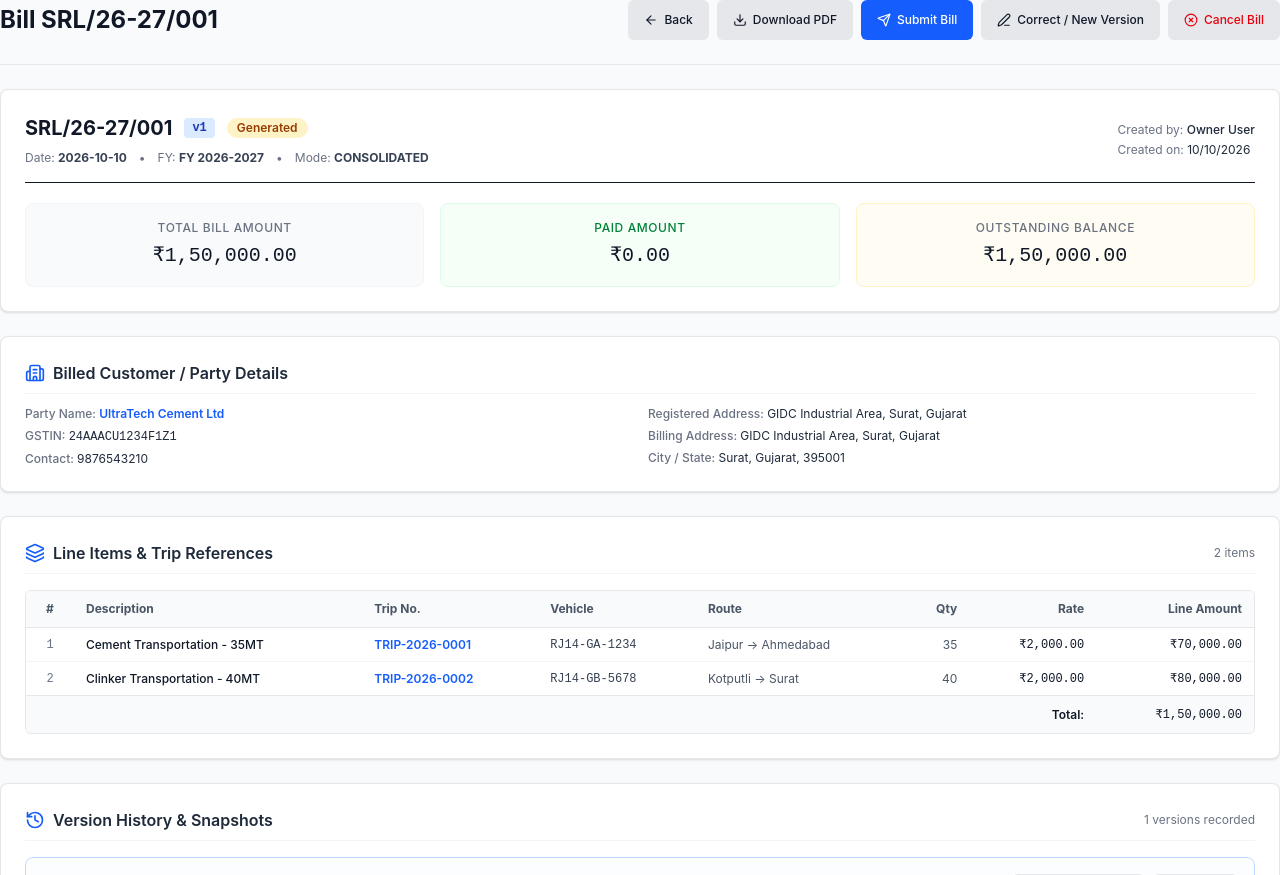
Test: BillDetail Page › rejects cancellation when backend responds with BILL_HAS_ACTIVE_ALLOCATIONS
// Open cancel modal
Click the button "Cancel Bill": (1224, 20) [1168,0,1279,40]
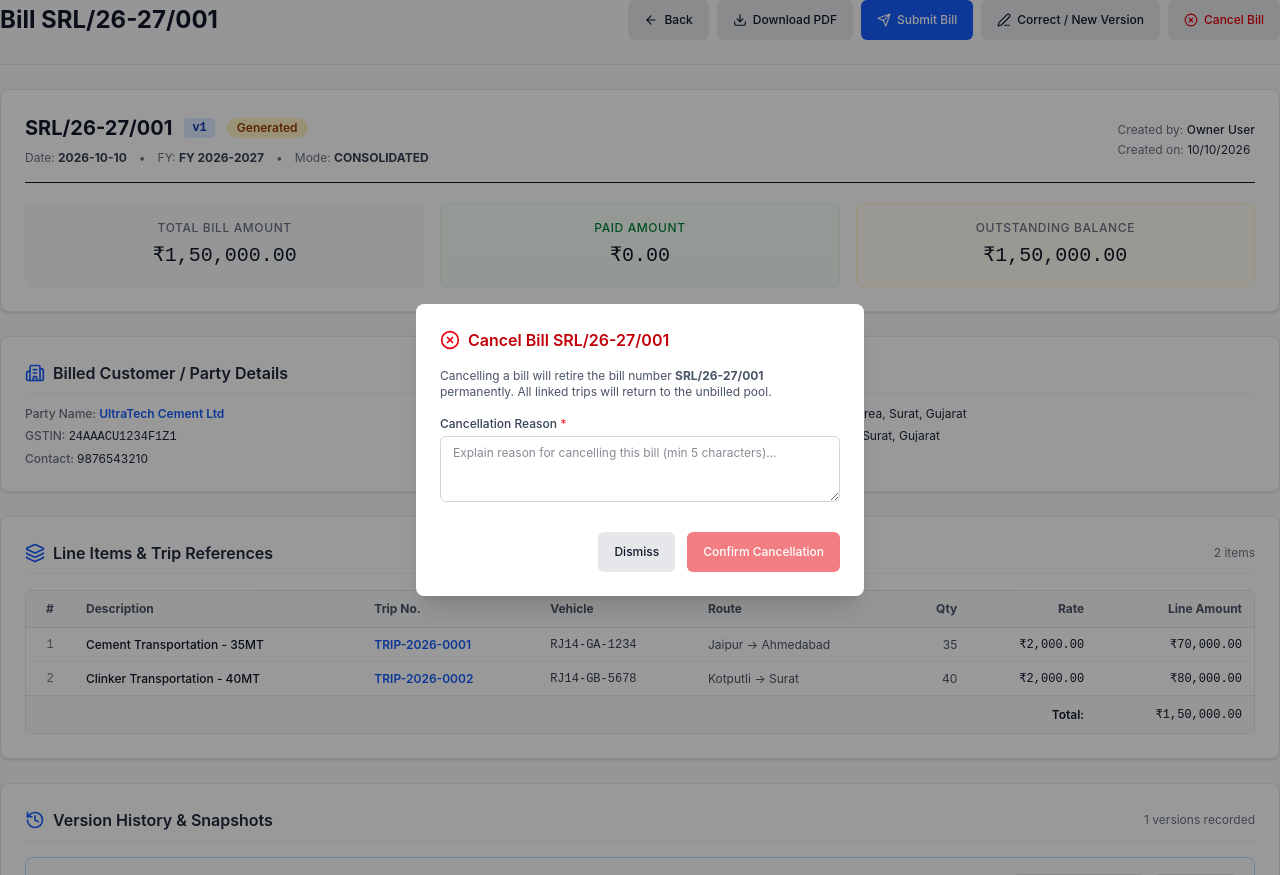
Expected: the text "Cancel Bill SRL/26-27/001" is shown, [468,328,669,352]
// Enter cancellation reason
Replace the text in the text box with placeholder "Explain reason for cancelling this bill (min 5 characters)..." with "Customer requested cancellation.": (640, 469) [440,436,840,502]
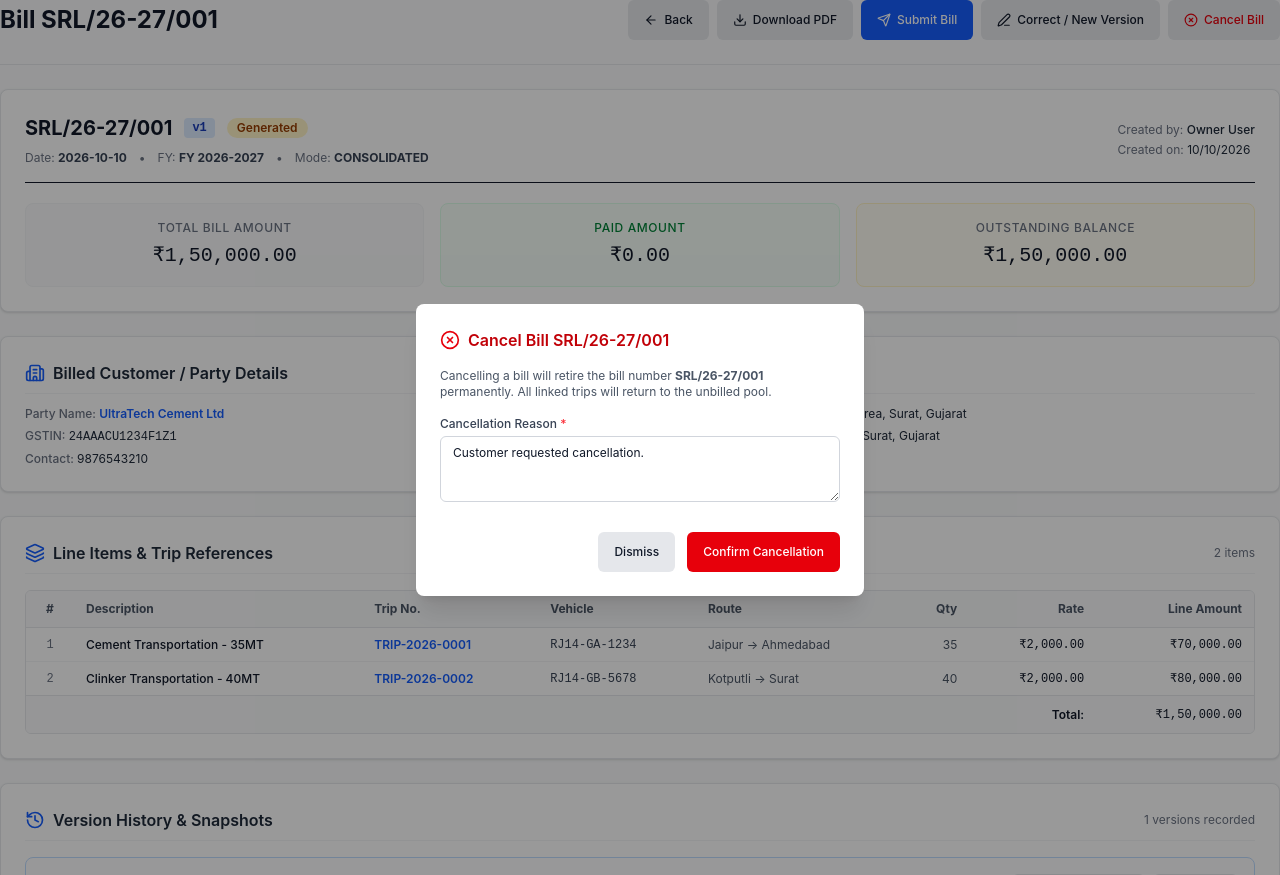
// Confirm cancel
Click the button "Confirm Cancellation": (764, 552) [687,532,840,572]
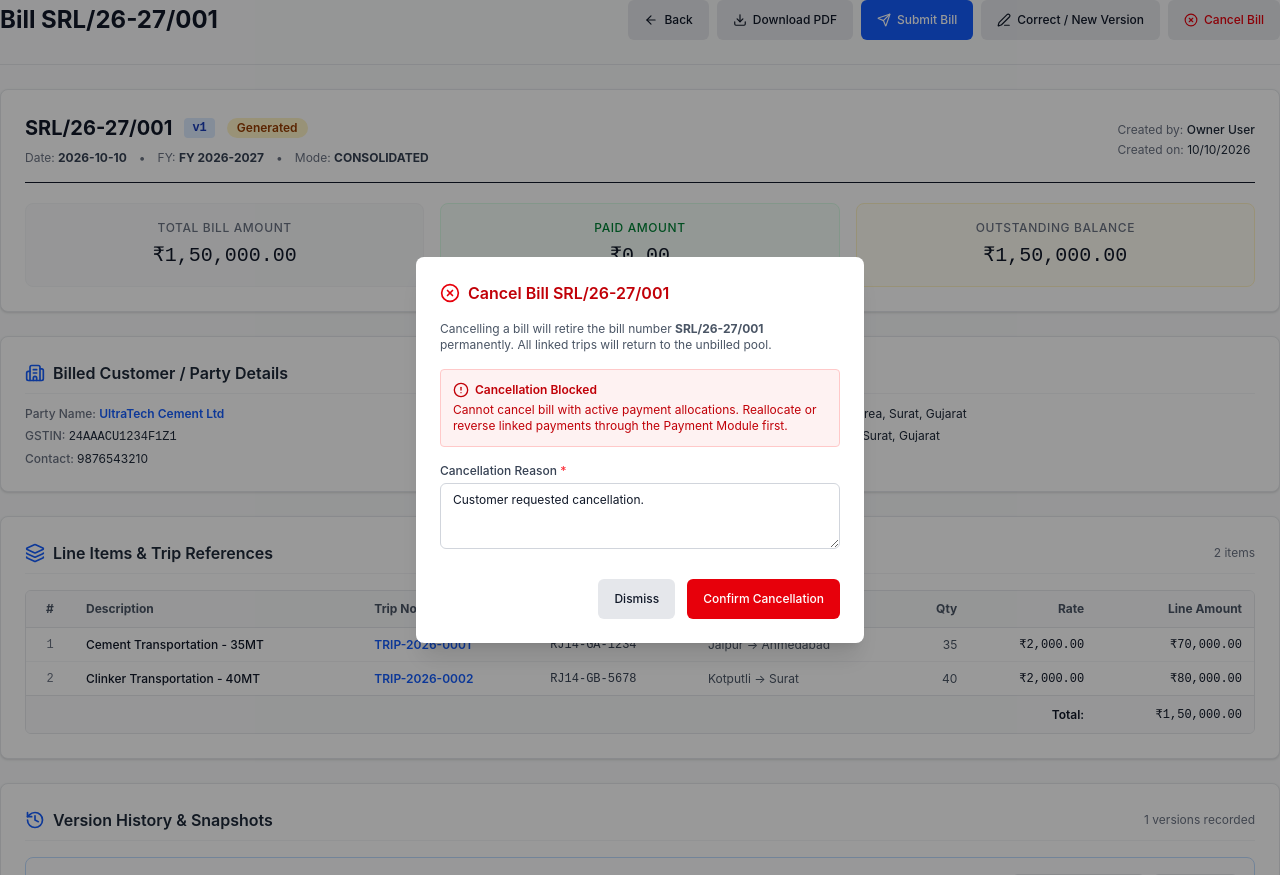
Expected: the text "Cannot cancel bill with active payment allocations. Reallocate or reverse linked payments through the Payment Module fir" is shown, [453,402,816,433]
